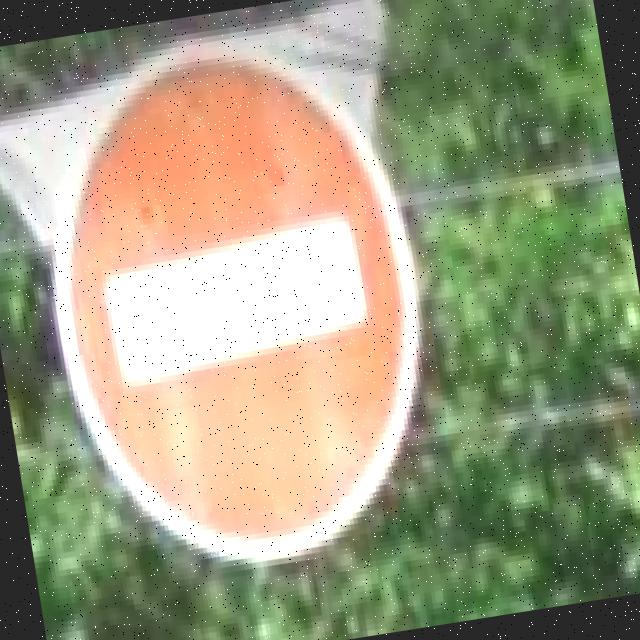Zakaz wjazdu: (20, 21, 461, 593)
